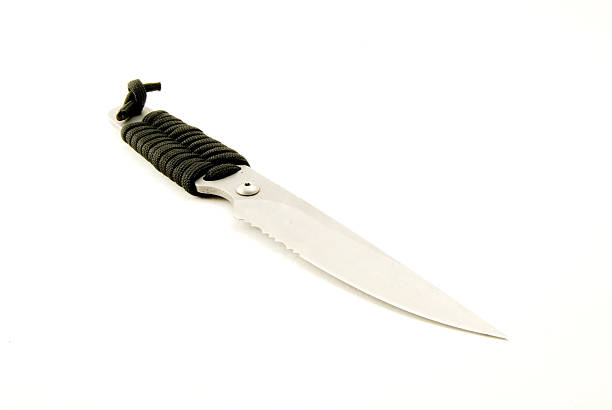knife: (103, 77, 513, 343)
